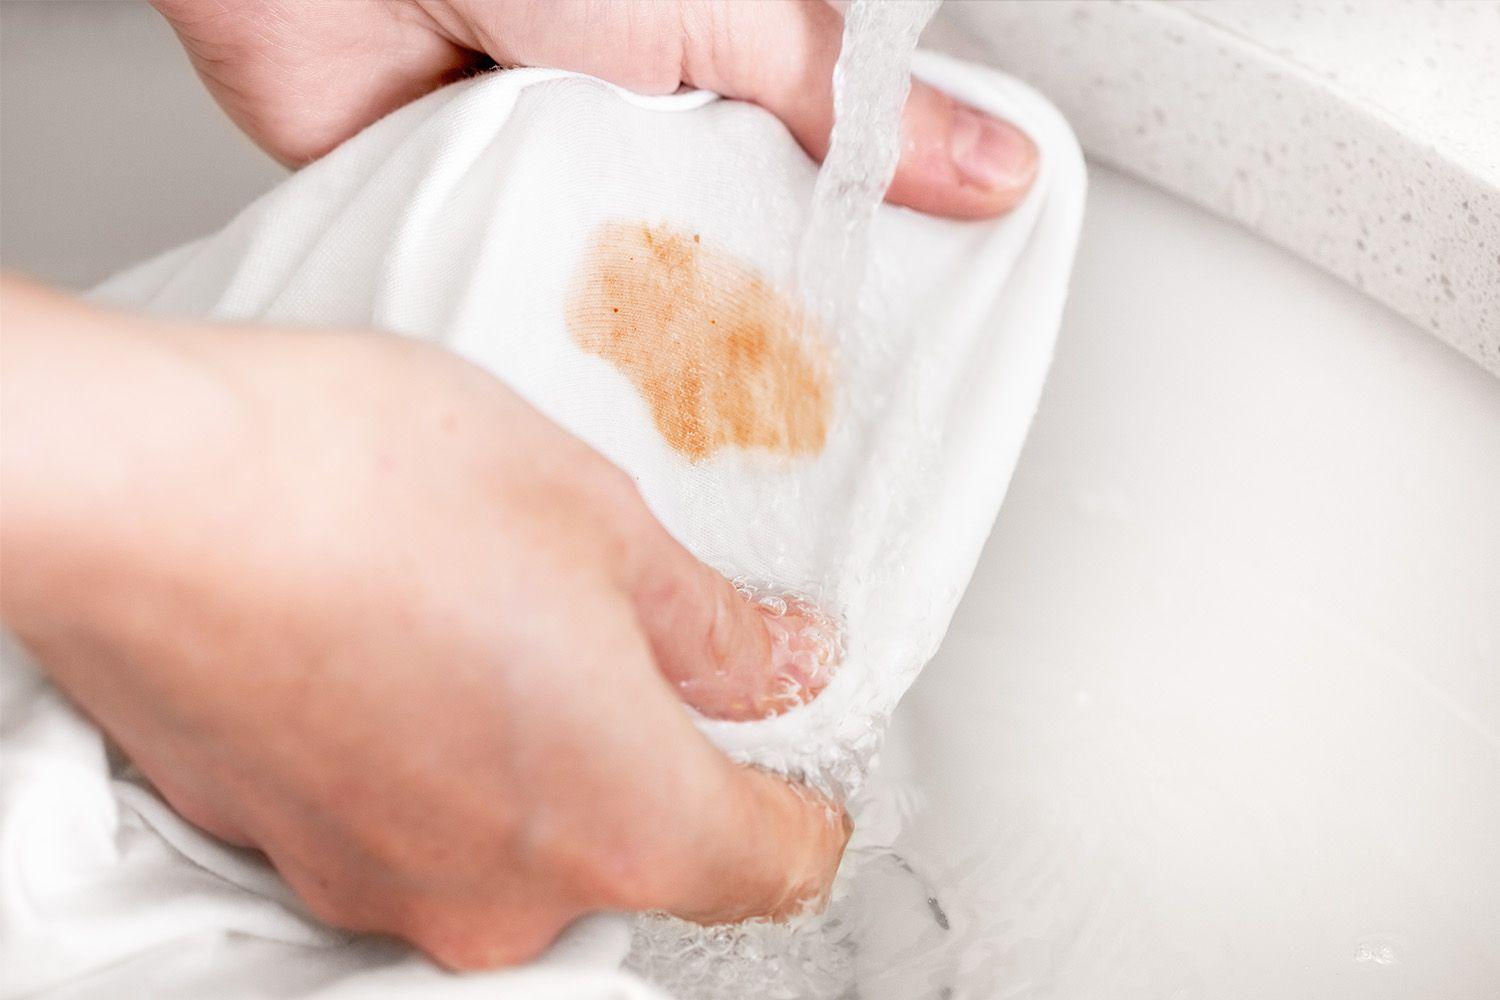gun: (552, 220, 858, 473)
